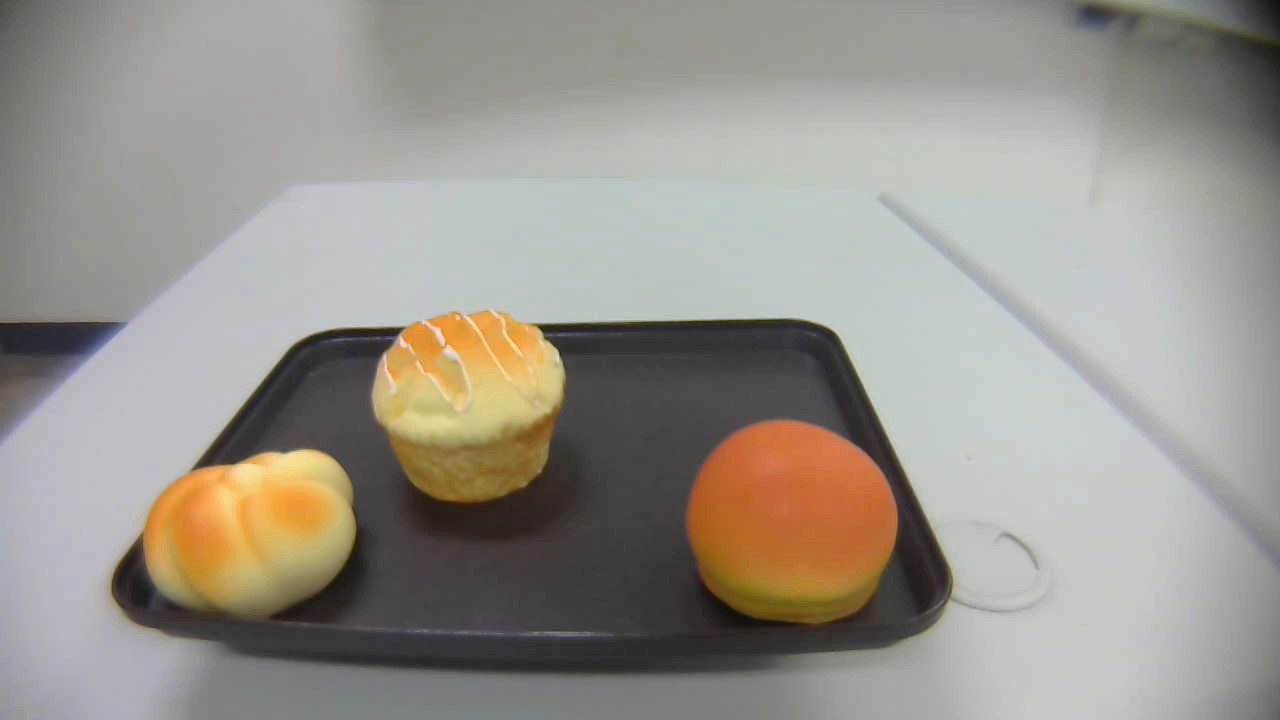bun: (686, 418, 899, 623)
cupcake: (371, 310, 565, 502)
twist bread: (142, 448, 356, 619)
